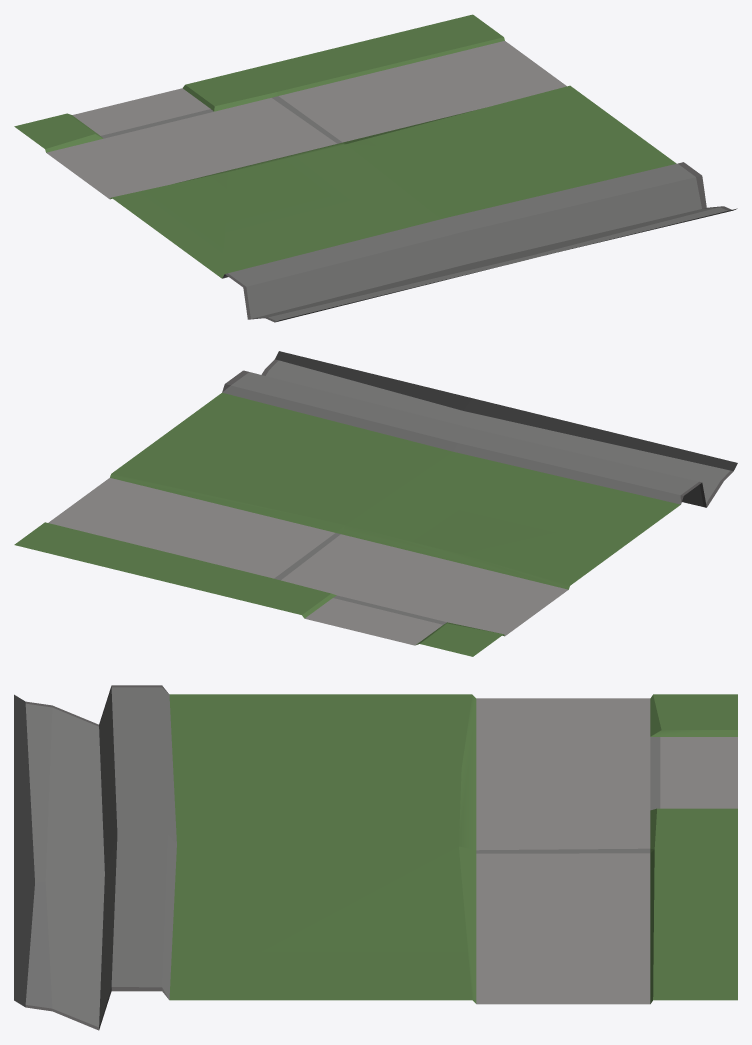
File: SM_Env_Sidewalk_Straight_08.fbx
3 views of the same model, one above another, from view 1: azimuth 30°, elevation 25°; view 2: azimuth 150°, elevation 25°; view 3: azimuth 270°, elevation 25° (orthographic). The views are drawn at different scales.
Visible parts, largest first — view 1: SM_Env_Sidewalk_Straight_08; view 2: SM_Env_Sidewalk_Straight_08; view 3: SM_Env_Sidewalk_Straight_08.
Boxes of the visible parts, x1,y1,x2,y2 form: SM_Env_Sidewalk_Straight_08: (14, 14, 737, 322); SM_Env_Sidewalk_Straight_08: (14, 351, 737, 656); SM_Env_Sidewalk_Straight_08: (14, 685, 737, 1030).
Size of the model in its own units: 500 by 30 by 500.
